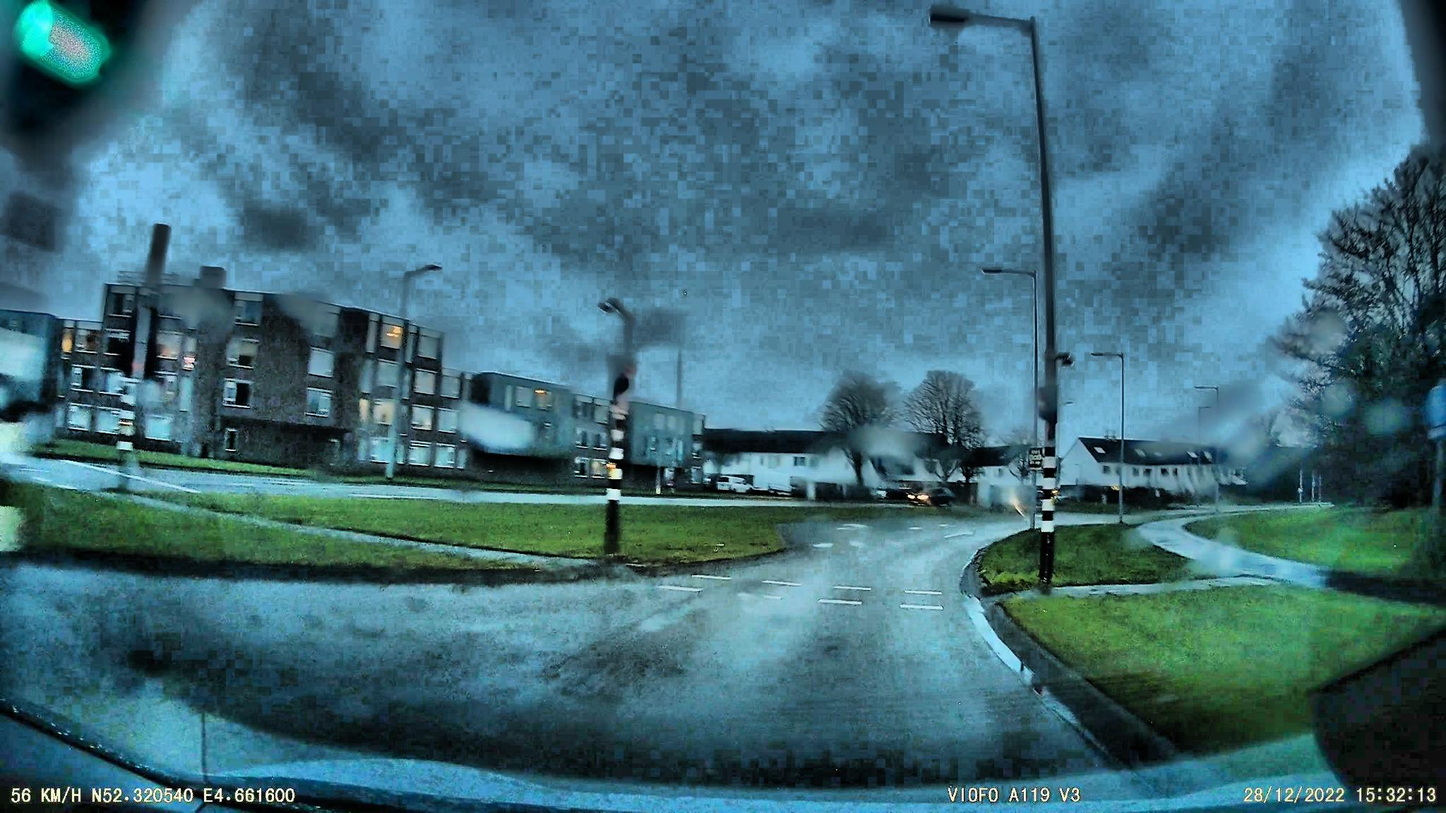Roads: (0, 521, 1105, 810)
